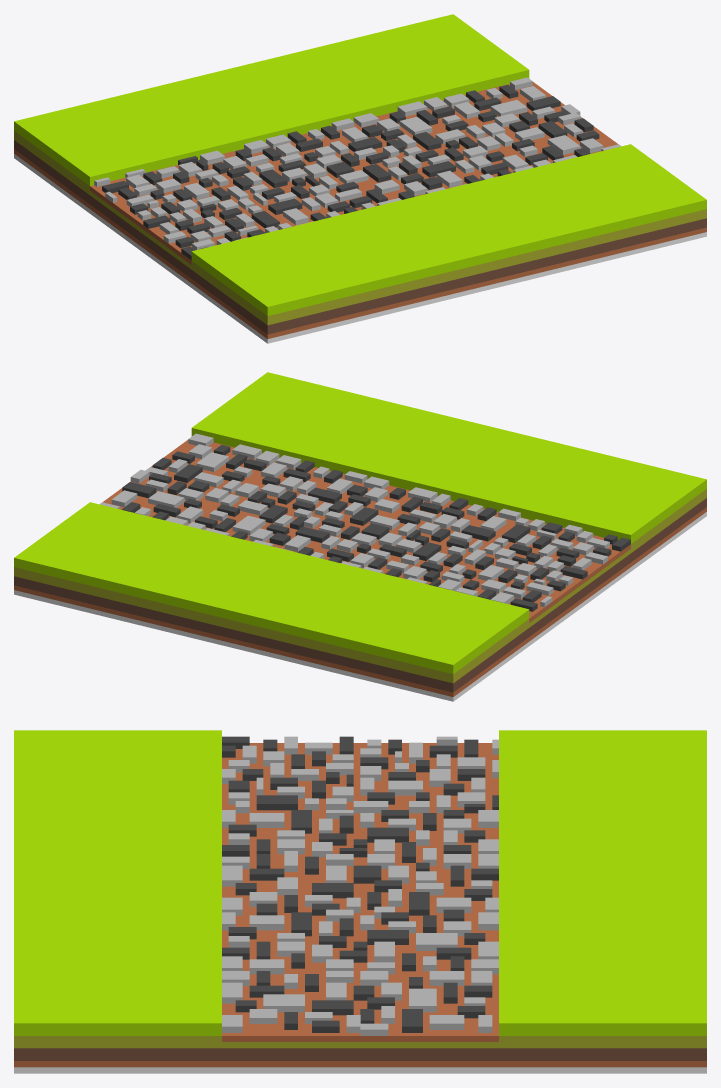
Rendered from Ways-5-Way.obj.
The picture shows the model from 3 angles, top to bottom: view 1: azimuth 30°, elevation 25°; view 2: azimuth 150°, elevation 25°; view 3: azimuth 270°, elevation 25°; orthographic projection. The views are drawn at different scales.
Visible parts, largest first — view 1: Way; view 2: Way; view 3: Way.
Boxes of the visible parts, x1,y1,x2,y2 form: Way: (14, 14, 706, 343); Way: (14, 372, 706, 701); Way: (14, 730, 706, 1073).
Bounding box in the file's own units: 10 × 0.8 × 10.
1 material, 1 textured.
